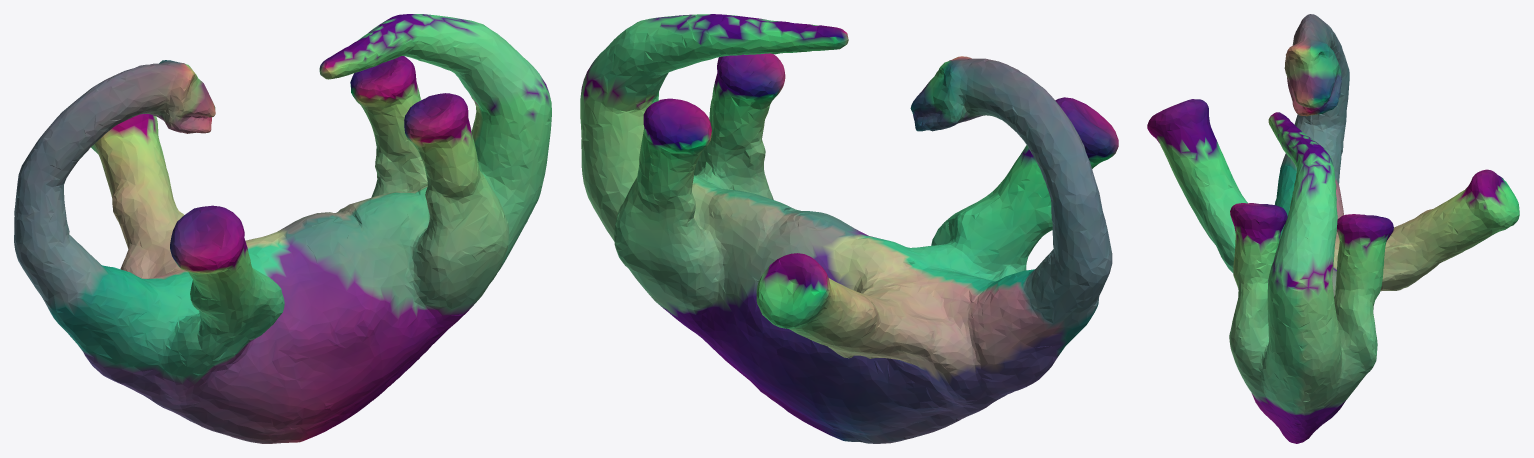
File: dinosaur-9.off.obj
The picture shows the model from 3 angles, left to right: view 1: azimuth 30°, elevation 25°; view 2: azimuth 150°, elevation 25°; view 3: azimuth 270°, elevation 25°; orthographic projection. The views are drawn at different scales.
Bounding box in the file's own units: 1.69 × 1.27 × 1.22.
